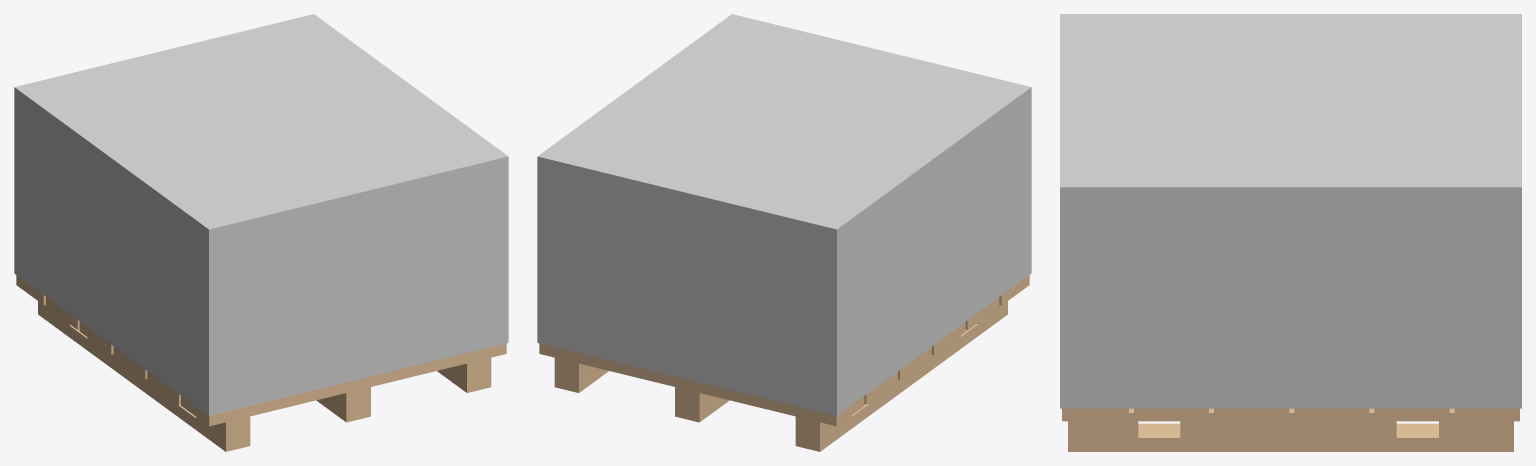
File: paquete.glb
The picture shows the model from 3 angles, left to right: view 1: azimuth 30°, elevation 25°; view 2: azimuth 150°, elevation 25°; view 3: azimuth 270°, elevation 25°; orthographic projection. The views are drawn at different scales.
Visible parts, largest first — view 1: paquete, solapa.003, solapa.001; view 2: paquete, solapa.003, solapa.001; view 3: paquete, solapa.003, solapa.001.
Boxes of the visible parts, x1,y1,x2,y2 form: paquete: (14,14,508,415); solapa.003: (38,301,491,451); solapa.001: (16,275,506,426); paquete: (537,14,1031,415); solapa.003: (554,301,1007,451); solapa.001: (539,275,1029,426); paquete: (1060,14,1521,408); solapa.003: (1068,408,1513,451); solapa.001: (1062,408,1519,421).
Size of the model in its own units: 3.6 by 2.64 by 4.05.
